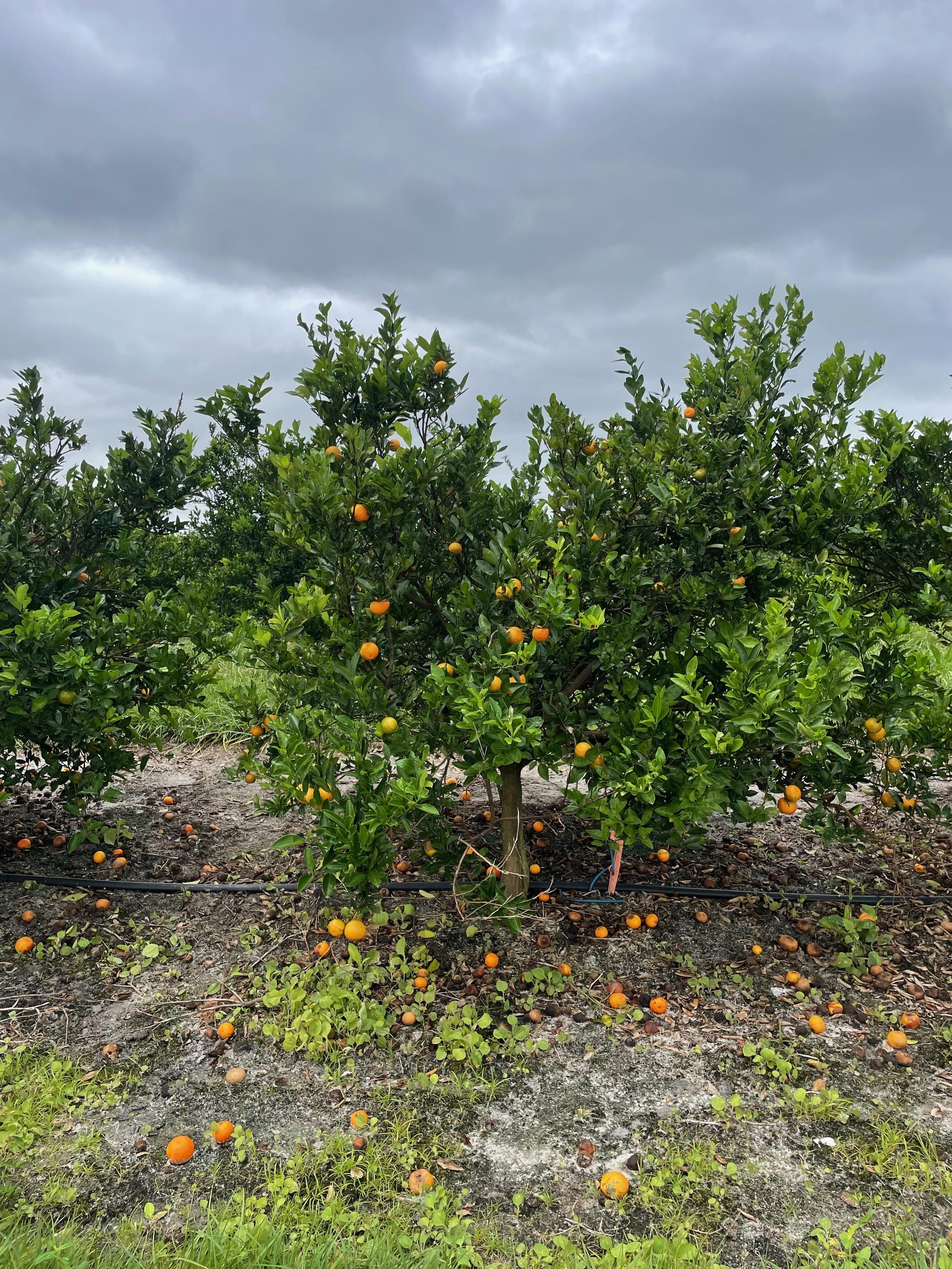fruit_on_ground: (499, 670, 528, 695), (346, 500, 372, 525), (294, 781, 319, 806), (501, 575, 526, 599), (585, 749, 609, 772), (321, 442, 345, 465), (344, 918, 367, 942), (367, 595, 392, 617), (313, 781, 336, 804), (358, 640, 382, 662), (493, 580, 516, 602), (503, 623, 526, 645), (378, 714, 400, 736), (326, 916, 347, 939), (429, 357, 452, 378), (596, 437, 618, 458), (434, 659, 456, 680), (572, 739, 593, 761), (879, 788, 900, 809), (580, 615, 603, 634), (485, 673, 505, 694), (782, 783, 803, 803), (783, 752, 805, 771), (776, 796, 798, 815), (865, 724, 887, 743), (897, 793, 917, 813), (260, 711, 280, 731), (727, 571, 748, 590), (57, 687, 78, 706), (588, 528, 610, 546), (422, 838, 441, 858), (650, 579, 670, 598), (863, 716, 883, 735), (884, 755, 903, 774), (531, 623, 551, 641), (579, 438, 598, 456), (567, 617, 586, 634), (446, 540, 465, 557), (692, 467, 710, 484), (385, 436, 403, 453), (66, 769, 85, 785), (75, 569, 93, 585), (727, 523, 745, 539), (80, 770, 98, 785), (250, 723, 266, 739), (85, 739, 101, 754), (682, 405, 698, 420), (102, 733, 117, 748), (242, 771, 258, 785), (137, 685, 152, 699)
fruit_on_tree: (597, 1169, 630, 1202), (164, 1134, 195, 1164), (406, 1167, 436, 1196), (210, 1119, 236, 1143), (348, 1108, 371, 1130), (223, 1065, 248, 1084), (900, 1009, 922, 1030), (215, 1020, 236, 1041), (777, 932, 799, 952), (13, 934, 35, 954), (885, 1030, 908, 1049), (807, 1013, 827, 1033), (607, 992, 628, 1010), (313, 939, 332, 958), (649, 995, 668, 1014), (805, 939, 825, 957), (905, 983, 926, 1000), (892, 1049, 913, 1066), (794, 917, 814, 934), (856, 910, 878, 925), (826, 999, 845, 1016), (794, 974, 812, 991), (535, 933, 554, 949), (605, 979, 624, 995), (643, 1018, 660, 1035), (350, 1134, 368, 1150), (413, 974, 429, 991), (654, 846, 671, 862), (483, 950, 499, 967), (395, 859, 413, 874), (51, 832, 67, 848), (626, 912, 642, 928), (527, 1007, 543, 1023), (484, 863, 501, 878), (20, 907, 37, 922), (94, 896, 111, 911), (643, 912, 660, 927), (938, 916, 952, 934), (203, 1025, 219, 1040), (415, 966, 431, 981), (401, 1010, 416, 1026), (556, 961, 572, 976), (593, 924, 609, 939), (784, 968, 801, 982), (775, 840, 791, 854), (471, 963, 486, 977), (92, 849, 107, 863), (567, 909, 583, 922), (16, 836, 32, 849), (695, 909, 709, 923), (869, 962, 884, 975), (703, 875, 718, 888), (726, 843, 742, 855), (481, 808, 494, 822), (750, 942, 763, 956), (528, 862, 542, 875), (443, 775, 458, 787), (34, 819, 49, 831), (538, 890, 553, 902), (737, 850, 751, 862), (464, 844, 478, 856), (112, 846, 126, 858), (912, 861, 926, 873), (110, 858, 124, 870), (459, 789, 472, 801), (533, 819, 546, 831), (536, 836, 549, 848), (114, 855, 127, 867), (181, 822, 193, 834), (163, 810, 176, 821), (162, 794, 175, 805), (208, 822, 220, 832)
